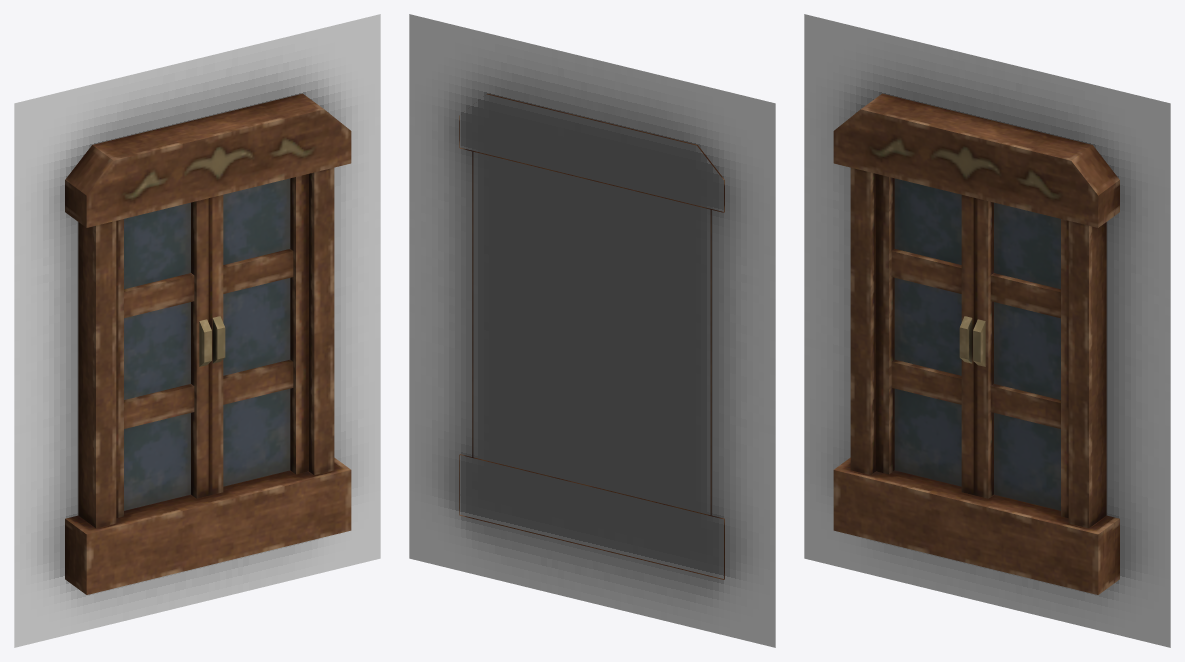
The model's file is EP1_windowFrame01.fbx.
The picture shows the model from 3 angles, left to right: view 1: azimuth 30°, elevation 25°; view 2: azimuth 150°, elevation 25°; view 3: azimuth 330°, elevation 25°; orthographic projection.
Parts seen in each view (by area): view 1: windowFrame01_obj, shadow_obj; view 2: shadow_obj, windowFrame01_obj; view 3: windowFrame01_obj, shadow_obj.
Part boxes in pixels (x1,y1,x2,y2): windowFrame01_obj: (65, 93, 351, 594); shadow_obj: (14, 14, 380, 647); shadow_obj: (409, 14, 775, 647); windowFrame01_obj: (459, 93, 724, 579); windowFrame01_obj: (833, 93, 1119, 594); shadow_obj: (804, 14, 1170, 647).
Bounding box in the file's own units: 1.11 × 1.57 × 0.1175.
